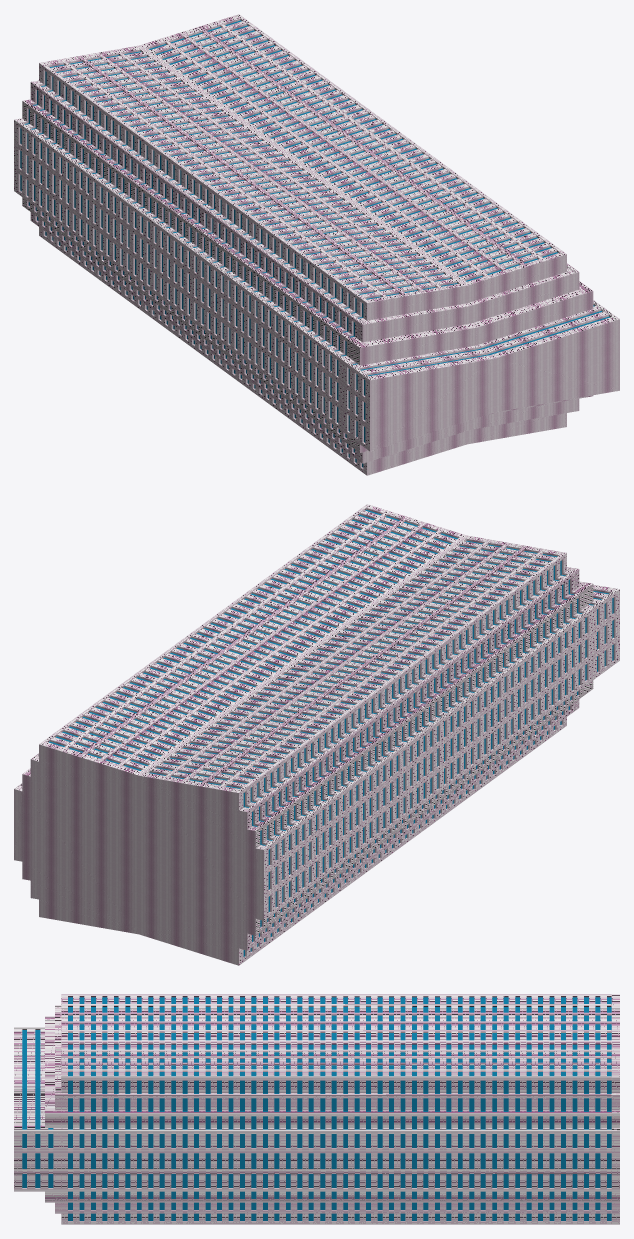
File: Sky023.obj
3 renders of one model, top to bottom at view 1: azimuth 30°, elevation 25°; view 2: azimuth 150°, elevation 25°; view 3: azimuth 270°, elevation 25°, orthographic. The views are drawn at different scales.
Visible parts, largest first — view 1: Wall_02, Wall_08, Glaz_01, Wall_07, Wall_04, Wall_01, Wall_05, Wall_06, Wall_03; view 2: Wall_02, Wall_08, Glaz_01, Wall_07, Wall_04, Wall_01, Wall_05, Wall_06; view 3: Wall_02, Glaz_01, Wall_07, Wall_04, Wall_01, Wall_06, Wall_05, Wall_03.
Boxes of the visible parts, x1,y1,x2,y2 form: Wall_02: [21, 21, 579, 475]; Wall_08: [18, 19, 619, 475]; Glaz_01: [20, 20, 609, 467]; Wall_07: [43, 17, 566, 474]; Wall_04: [18, 122, 619, 450]; Wall_01: [14, 14, 618, 451]; Wall_05: [27, 103, 592, 452]; Wall_06: [35, 84, 578, 460]; Wall_03: [350, 285, 589, 452]; Wall_02: [50, 505, 591, 959]; Wall_08: [14, 508, 615, 965]; Glaz_01: [49, 510, 613, 956]; Wall_07: [44, 504, 566, 961]; Wall_04: [19, 588, 619, 917]; Wall_01: [14, 584, 619, 965]; Wall_05: [27, 583, 593, 932]; Wall_06: [36, 568, 579, 946]; Wall_02: [55, 996, 606, 1224]; Glaz_01: [22, 997, 611, 1220]; Wall_07: [61, 994, 611, 1224]; Wall_04: [14, 1027, 611, 1191]; Wall_01: [14, 994, 619, 1224]; Wall_06: [55, 1005, 611, 1213]; Wall_05: [45, 1016, 611, 1202]; Wall_03: [45, 1018, 61, 1202].
Bounding box in the file's own units: 2571 × 1697 × 6343.
Materials: 3 (1 with a texture image).
